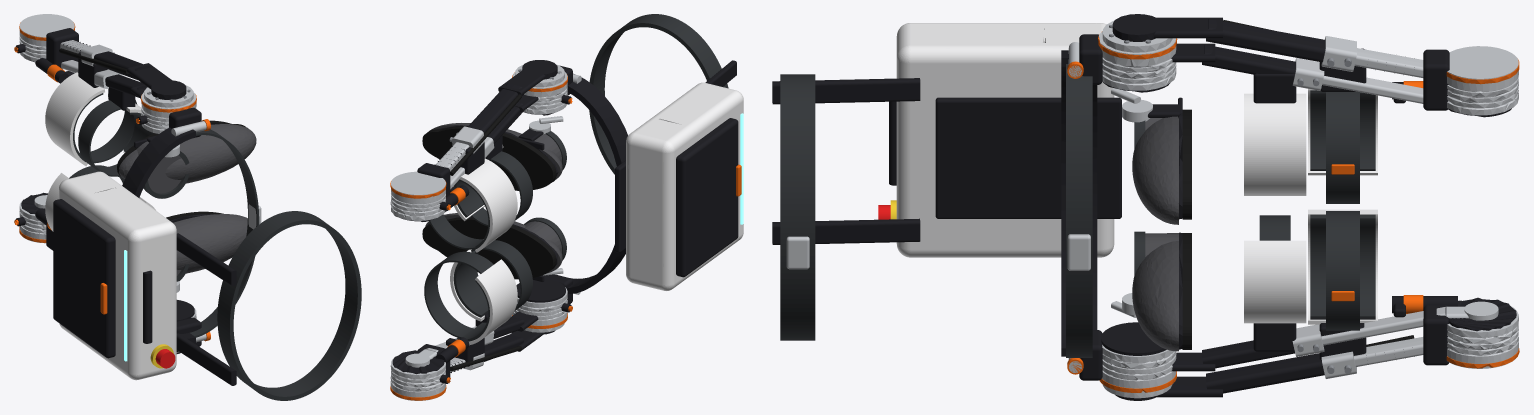
File: volition_web.glb
3 renders of one model, left to right at view 1: azimuth 30°, elevation 25°; view 2: azimuth 150°, elevation 25°; view 3: azimuth 270°, elevation 25°, orthographic. The views are drawn at different scales.
Visible parts, largest first — view 1: pelvis__carbon, pelvis__shell, pelvis__pad, foot_L__fabric, thigh_L__carbon, foot_R__fabric, thigh_L__alu, thigh_L__shell, shank_L__pad, pelvis__alu, shank_L__carbon, thigh_L__pad (+8 smaller); view 2: pelvis__carbon, pelvis__shell, thigh_L__alu, pelvis__pad, thigh_L__carbon, foot_R__rubber, thigh_L__shell, foot_L__rubber, shank_R__pad, thigh_R__pad, thigh_R__carbon, pelvis__alu (+18 smaller); view 3: pelvis__carbon, pelvis__shell, pelvis__pad, thigh_L__carbon, pelvis__alu, thigh_L__alu, thigh_R__pad, thigh_R__carbon, thigh_L__pad, shank_L__shell, shank_R__shell, thigh_R__alu (+15 smaller).
Part boxes in pixels (x1=…): pelvis__carbon: x1=53, y1=107, x2=236, y2=385; pelvis__shell: x1=59, y1=171, x2=176, y2=380; pelvis__pad: x1=190, y1=129, x2=361, y2=400; foot_L__fabric: x1=119, y1=124, x2=256, y2=193; thigh_L__carbon: x1=15, y1=28, x2=186, y2=99; foot_R__fabric: x1=173, y1=214, x2=247, y2=275; thigh_L__alu: x1=19, y1=14, x2=193, y2=107; thigh_L__shell: x1=45, y1=72, x2=104, y2=166; shank_L__pad: x1=78, y1=100, x2=153, y2=176; pelvis__alu: x1=141, y1=92, x2=261, y2=342; shank_L__carbon: x1=35, y1=58, x2=147, y2=110; thigh_L__pad: x1=73, y1=93, x2=137, y2=163; pelvis__carbon: x1=516, y1=60, x2=738, y2=312; pelvis__shell: x1=626, y1=82, x2=743, y2=290; thigh_L__alu: x1=390, y1=64, x2=564, y2=220; pelvis__pad: x1=589, y1=14, x2=728, y2=174; thigh_L__carbon: x1=394, y1=60, x2=557, y2=221; foot_R__rubber: x1=422, y1=217, x2=556, y2=279; thigh_L__shell: x1=460, y1=158, x2=517, y2=252; foot_L__rubber: x1=422, y1=126, x2=556, y2=190; shank_R__pad: x1=453, y1=240, x2=532, y2=317; thigh_R__pad: x1=424, y1=251, x2=493, y2=341; thigh_R__carbon: x1=392, y1=330, x2=555, y2=383; pelvis__alu: x1=512, y1=72, x2=581, y2=329; pelvis__carbon: x1=772, y1=34, x2=1169, y2=380; pelvis__shell: x1=896, y1=23, x2=1114, y2=257; pelvis__pad: x1=780, y1=64, x2=1092, y2=357; thigh_L__carbon: x1=1112, y1=14, x2=1511, y2=117; pelvis__alu: x1=786, y1=31, x2=1176, y2=393; thigh_L__alu: x1=1102, y1=21, x2=1518, y2=115; thigh_R__pad: x1=1310, y1=211, x2=1375, y2=330; thigh_R__carbon: x1=1115, y1=297, x2=1516, y2=400; thigh_L__pad: x1=1310, y1=90, x2=1375, y2=203; shank_L__shell: x1=1244, y1=93, x2=1306, y2=195; shank_R__shell: x1=1244, y1=240, x2=1306, y2=323; thigh_R__alu: x1=1102, y1=306, x2=1518, y2=398.
Bounding box in the file's own units: 0.49 × 0.5243 × 0.9624.
